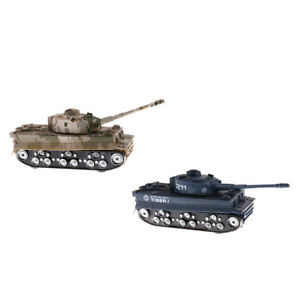Battle Tank: (8, 98, 165, 173), (133, 161, 290, 234)
